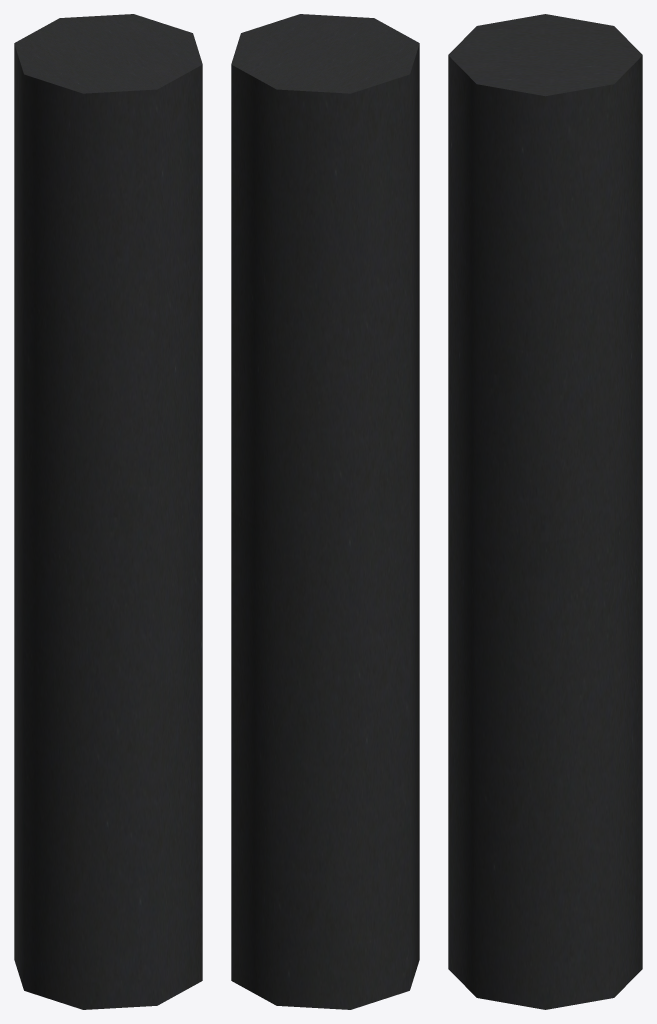
File: Charging_Handle_Spring_Pin.dae
The picture shows the model from 3 angles, left to right: view 1: azimuth 30°, elevation 25°; view 2: azimuth 150°, elevation 25°; view 3: azimuth 270°, elevation 25°; orthographic projection.
Parts seen in each view (by area): view 1: Charging_Handle_Spring_Pin; view 2: Charging_Handle_Spring_Pin; view 3: Charging_Handle_Spring_Pin.
Boxes of the visible parts, x1,y1,x2,y2 form: Charging_Handle_Spring_Pin: (14, 14, 202, 1009); Charging_Handle_Spring_Pin: (231, 14, 419, 1009); Charging_Handle_Spring_Pin: (448, 14, 642, 1009).
Bounding box in the file's own units: 0.00155 × 0.00155 × 0.00802.
1 material, 1 textured.
